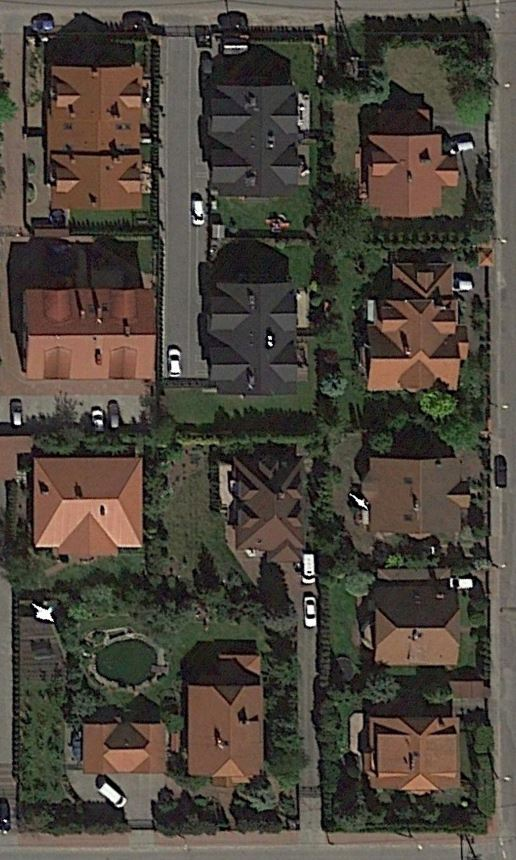family house: (36, 47, 159, 223), (356, 244, 481, 399), (19, 269, 171, 396), (194, 71, 318, 205), (194, 260, 306, 407), (175, 642, 287, 789), (349, 448, 479, 546), (225, 438, 322, 568), (361, 573, 472, 677), (361, 701, 469, 802), (70, 709, 176, 785)
